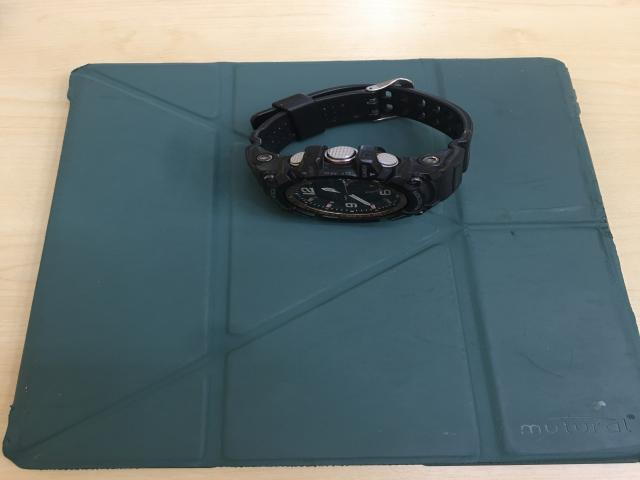Watch: (246, 82, 470, 222)
